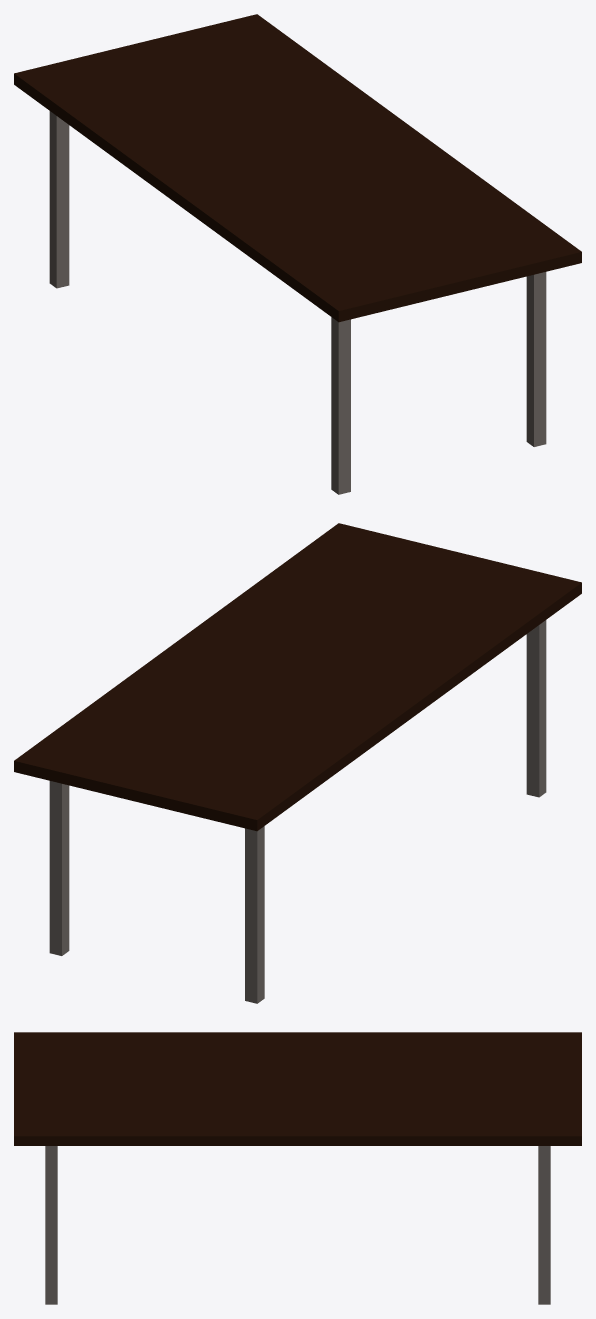
The model's file is Table.fbx.
3 renders of one model, top to bottom at view 1: azimuth 30°, elevation 25°; view 2: azimuth 150°, elevation 25°; view 3: azimuth 270°, elevation 25°, orthographic. The views are drawn at different scales.
Visible parts, largest first — view 1: TableTop, TableLegs; view 2: TableTop, TableLegs; view 3: TableTop, TableLegs.
Part boxes in pixels (<box>): TableTop: <box>14,14,581,322</box>; TableLegs: <box>49,111,546,494</box>; TableTop: <box>14,523,581,831</box>; TableLegs: <box>49,620,546,1003</box>; TableTop: <box>14,1032,581,1145</box>; TableLegs: <box>45,1146,550,1304</box>.
Size of the model in its own units: 163 by 129 by 376.
